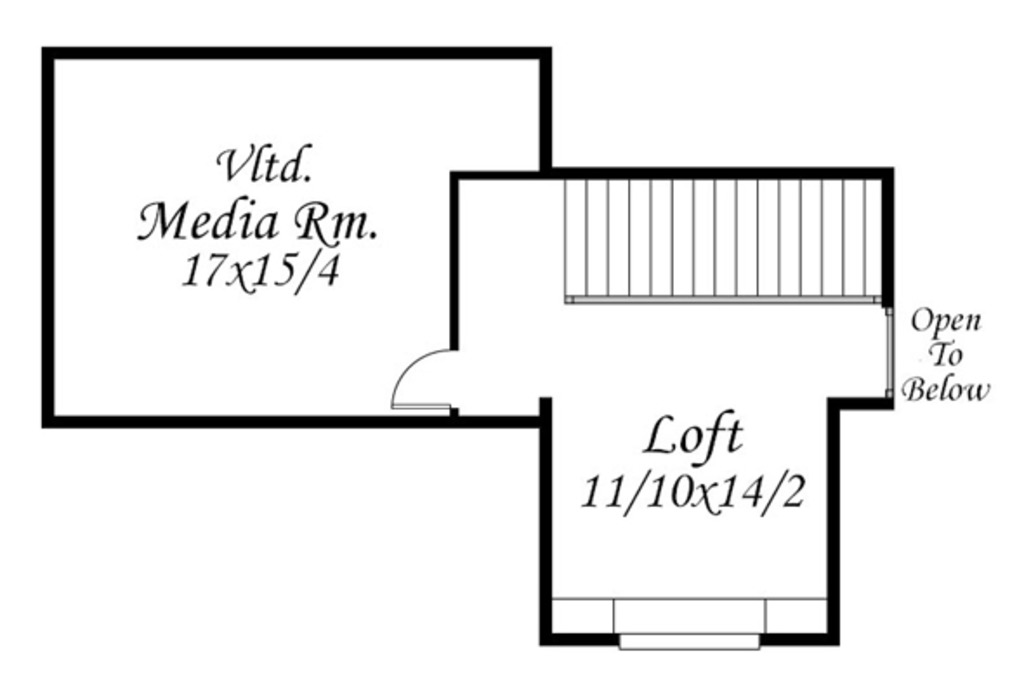door: (386, 346, 456, 413), (616, 630, 762, 656)
stairs: (559, 175, 892, 307)
